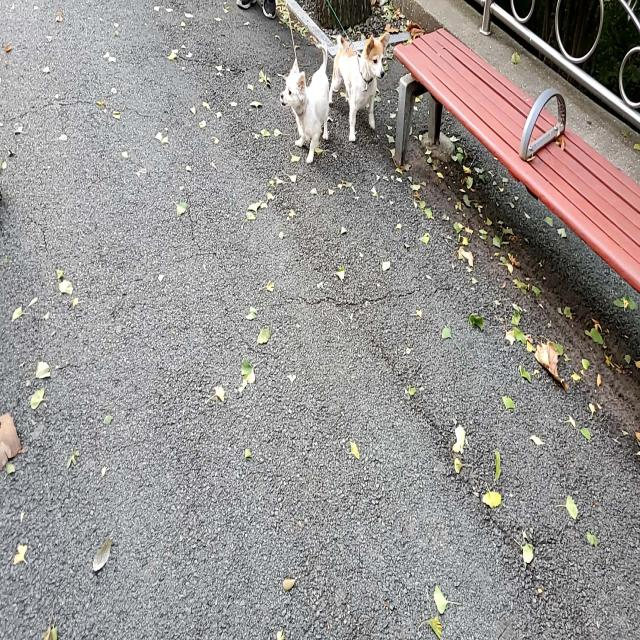Dog: (327, 31, 390, 144), (278, 42, 330, 166)
